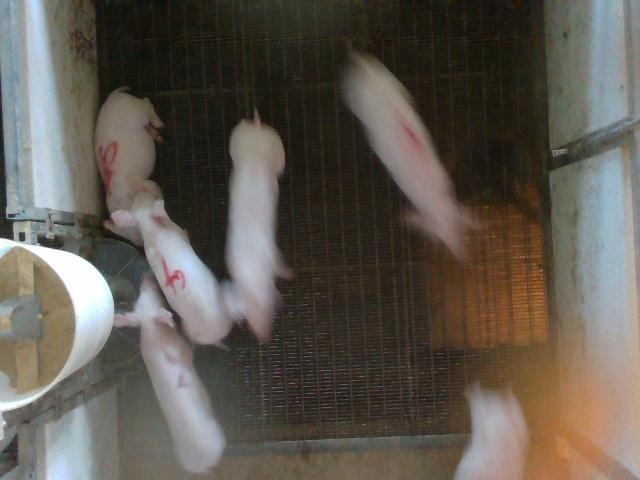pig-1: (342, 49, 472, 260)
pig-2: (114, 274, 225, 473)
pig-4: (111, 180, 231, 344)
pig-5: (95, 86, 164, 213)
